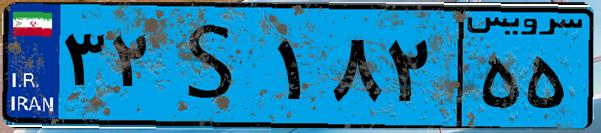1: (270, 28, 330, 110)
2: (385, 28, 445, 110), (110, 28, 158, 98)
3: (57, 26, 110, 100)
5: (475, 38, 525, 113), (525, 38, 570, 115)
8: (330, 28, 385, 110)
S: (158, 12, 270, 120)
